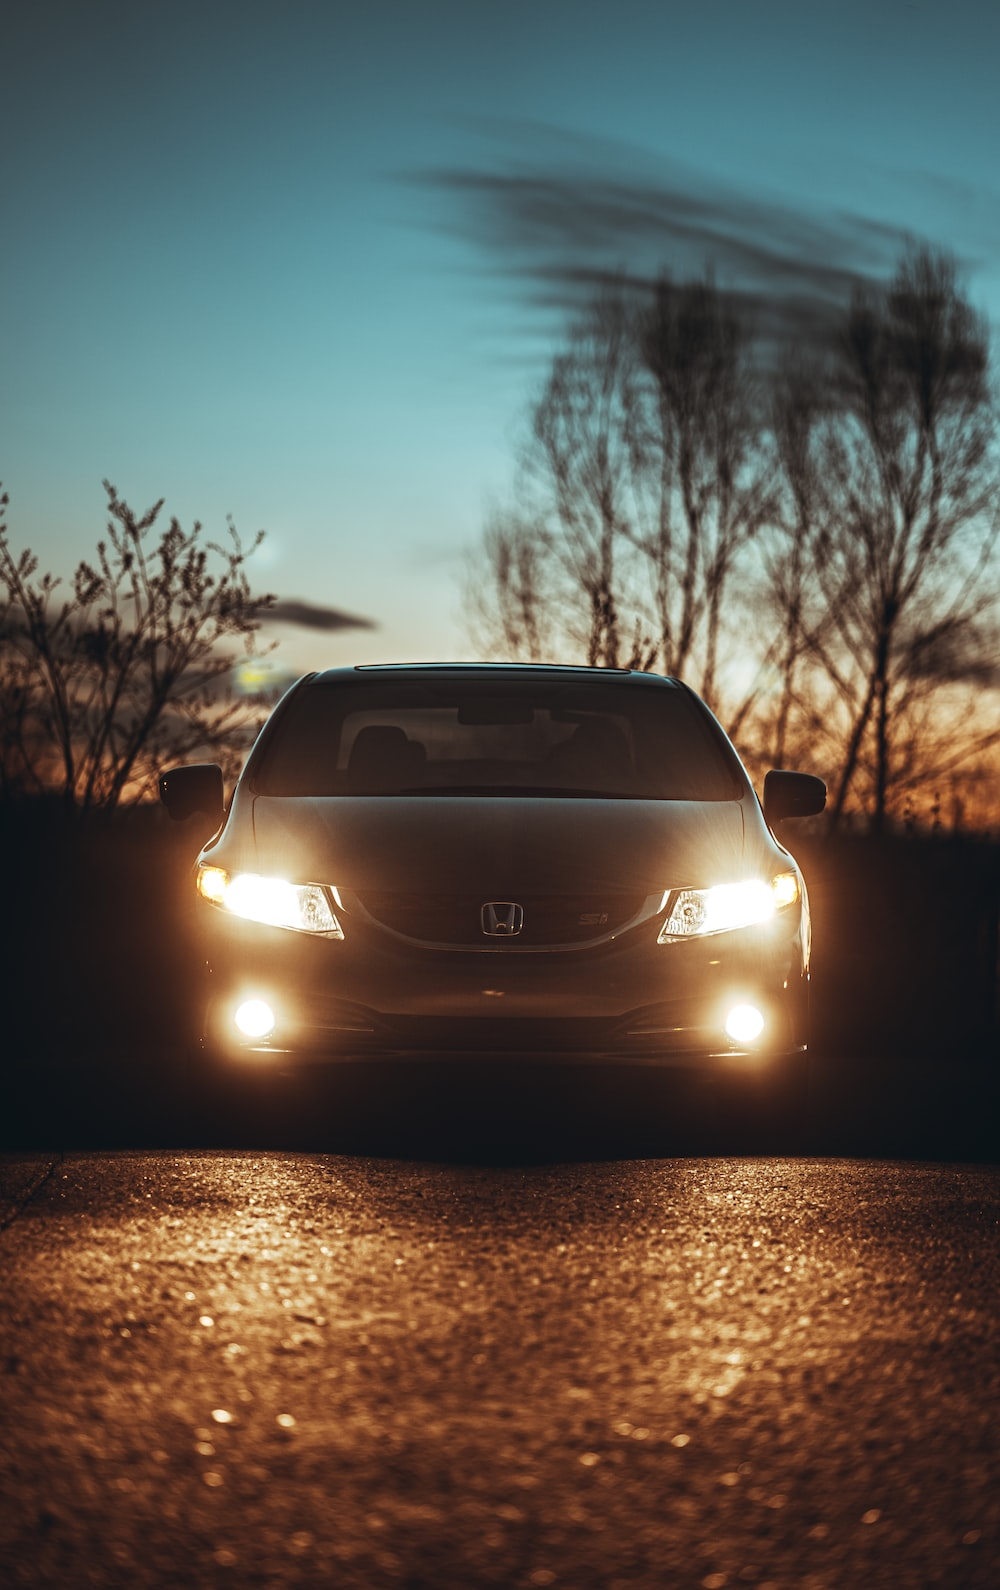headlight: (195, 847, 804, 949)
